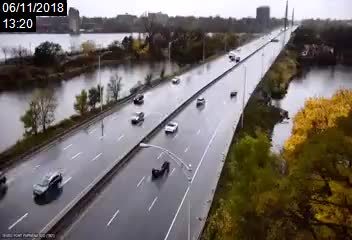personal_car: (32, 171, 64, 201), (152, 158, 171, 181), (164, 119, 179, 135), (131, 110, 144, 128), (132, 92, 146, 104), (195, 95, 207, 106), (229, 89, 241, 97), (171, 75, 181, 84)
